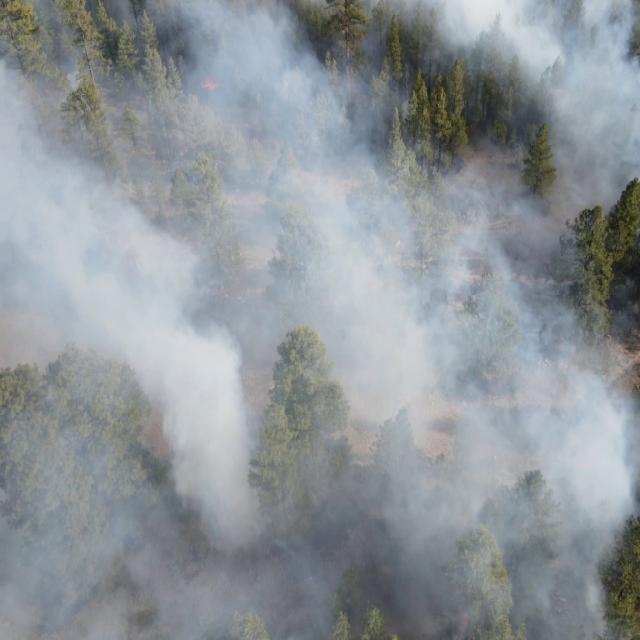fire: (198, 78, 223, 92), (486, 365, 499, 380)
smoke: (0, 285, 640, 640), (0, 0, 583, 285), (583, 0, 640, 208)
